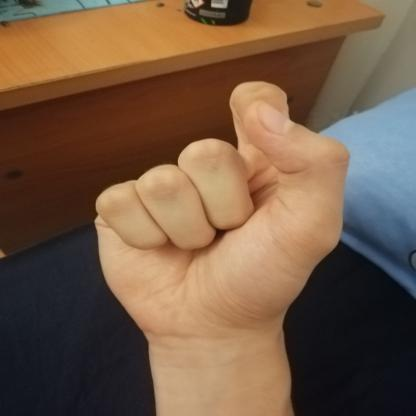FAA: (70, 65, 368, 362)
